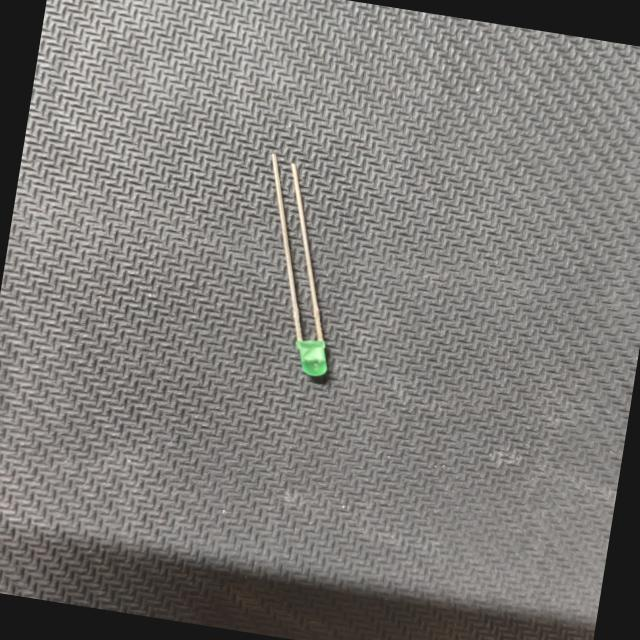led: (222, 140, 382, 390)
